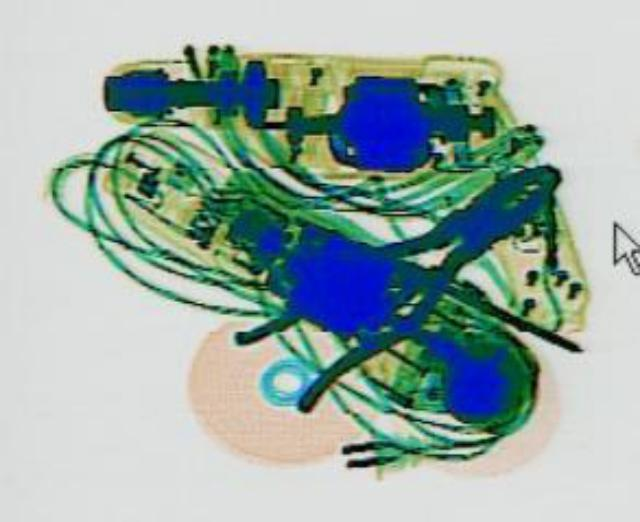Pliers: (214, 136, 604, 410)
